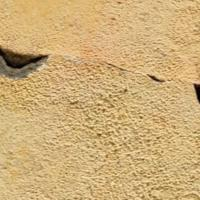crack: (0, 33, 199, 126)
